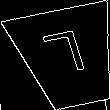L_S: (42, 30, 94, 85)
